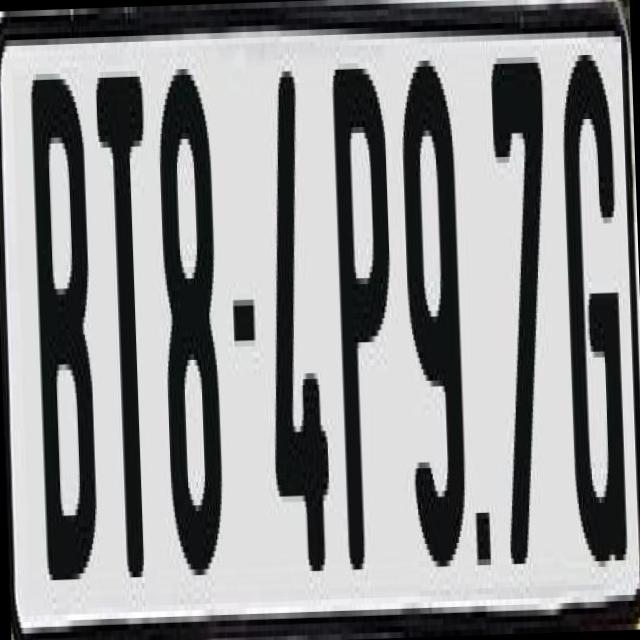4: (258, 64, 332, 596)
7: (487, 56, 564, 570)
8: (154, 68, 222, 593)
9: (397, 42, 472, 556)
B: (27, 66, 95, 568)
G: (558, 36, 630, 574)
P: (326, 51, 395, 570)
T: (94, 76, 160, 584)
